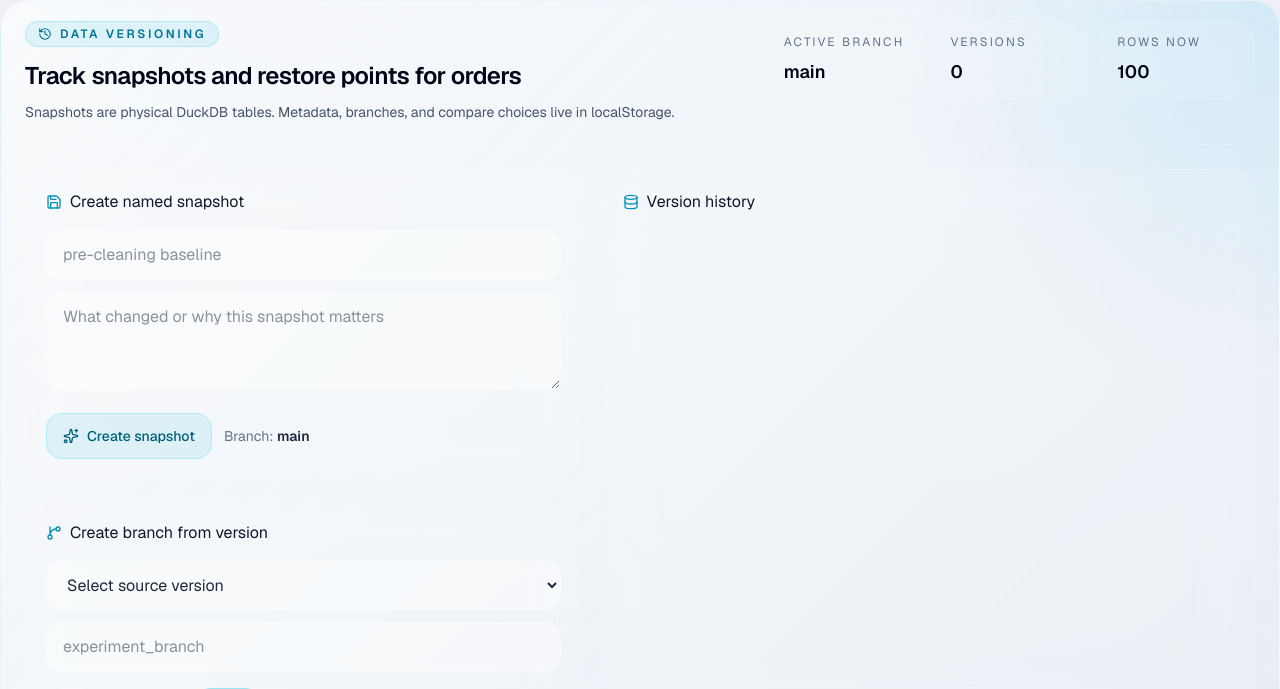
Test: DataVersioning › requires a snapshot name before creating a version
Click the button "Create snapshot": (129, 436) [46,413,212,459]
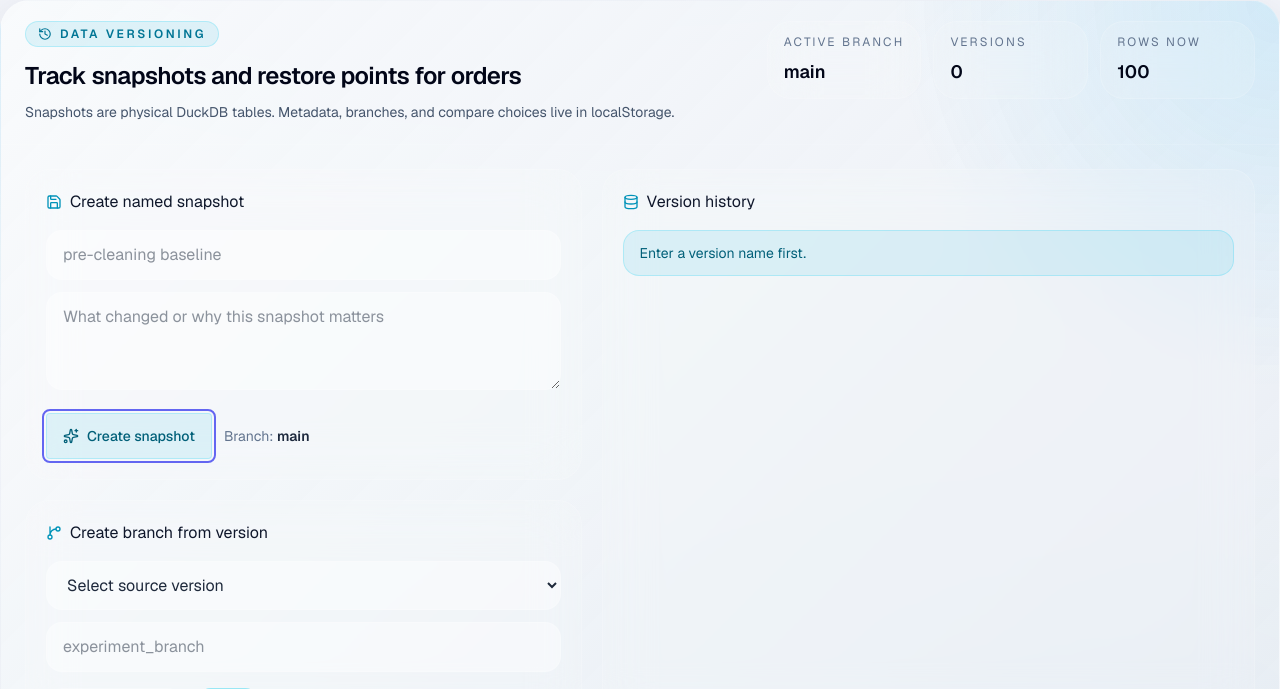
Check: the text "Enter a version name first." is shown, box [623,230,1234,276]
